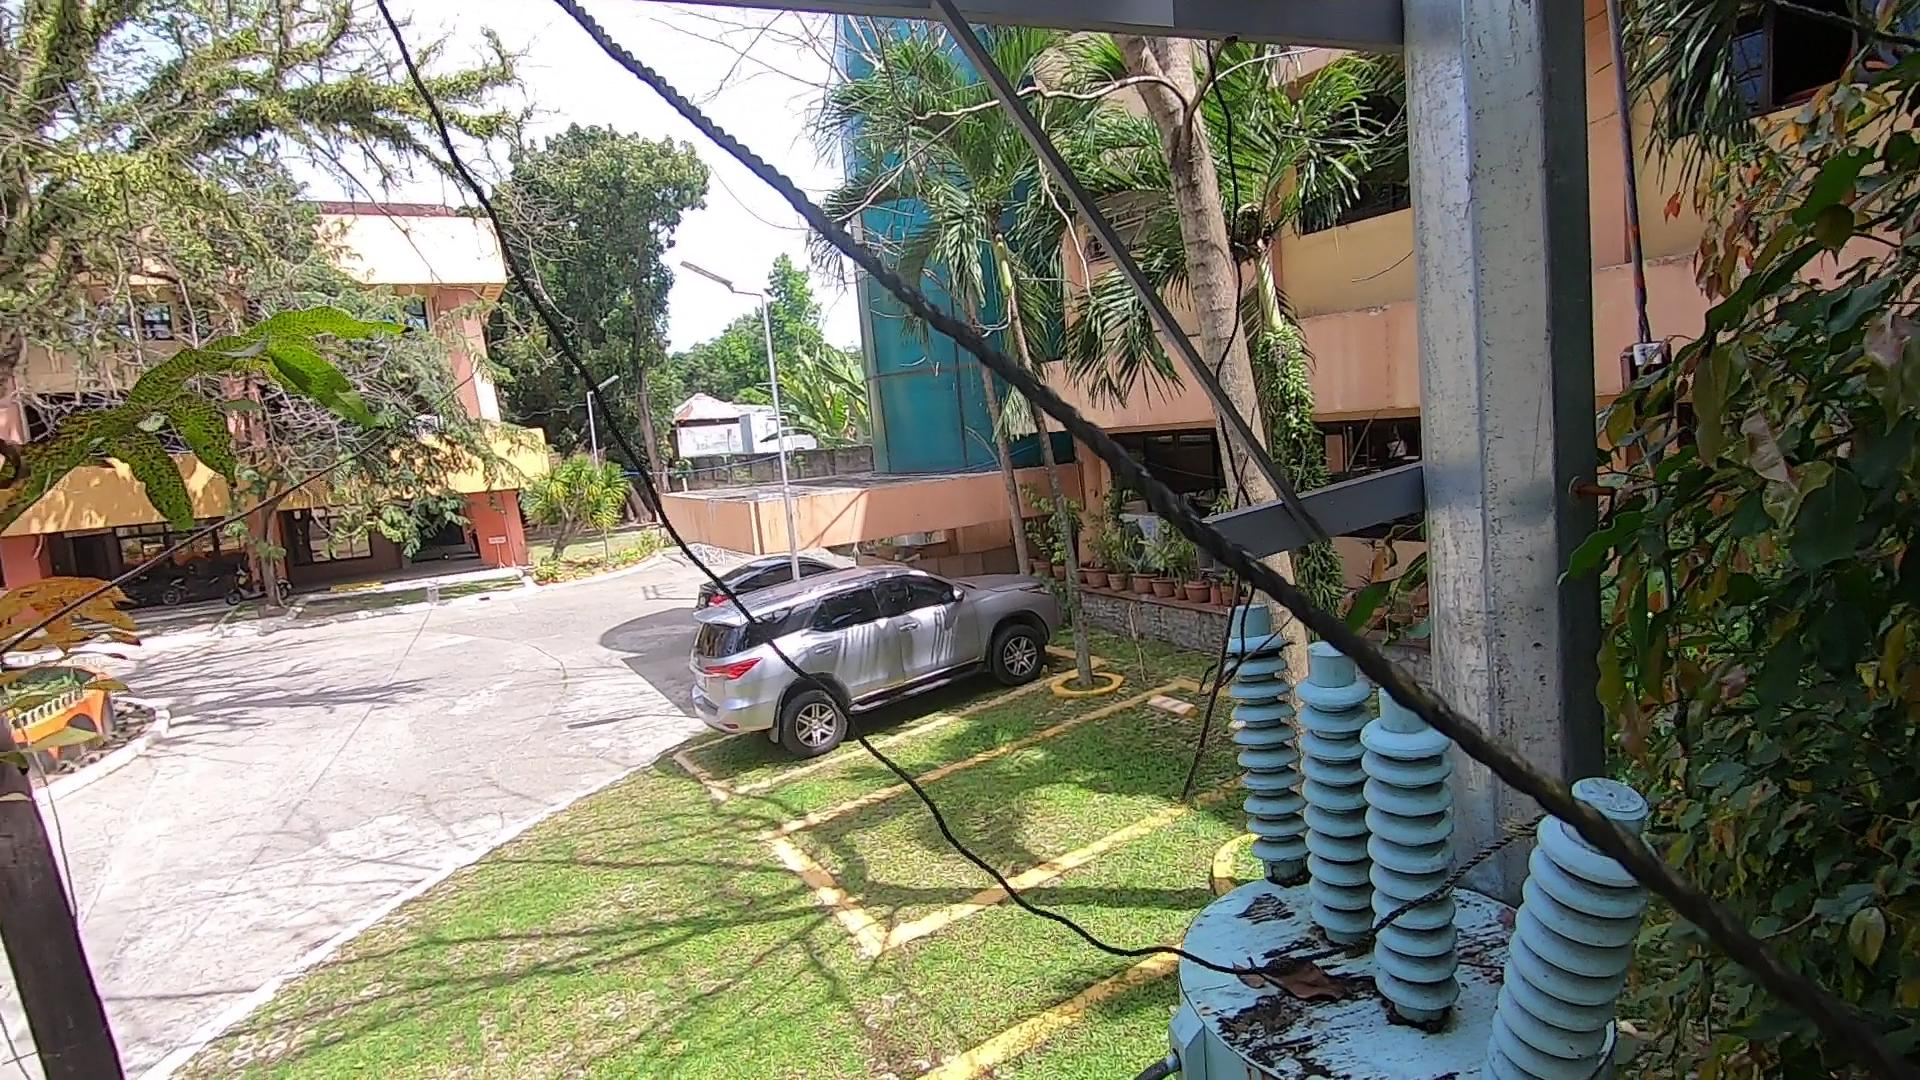leaf: (1232, 927, 1352, 1009), (1269, 862, 1319, 914)
tree branch: (1168, 386, 1315, 818)
